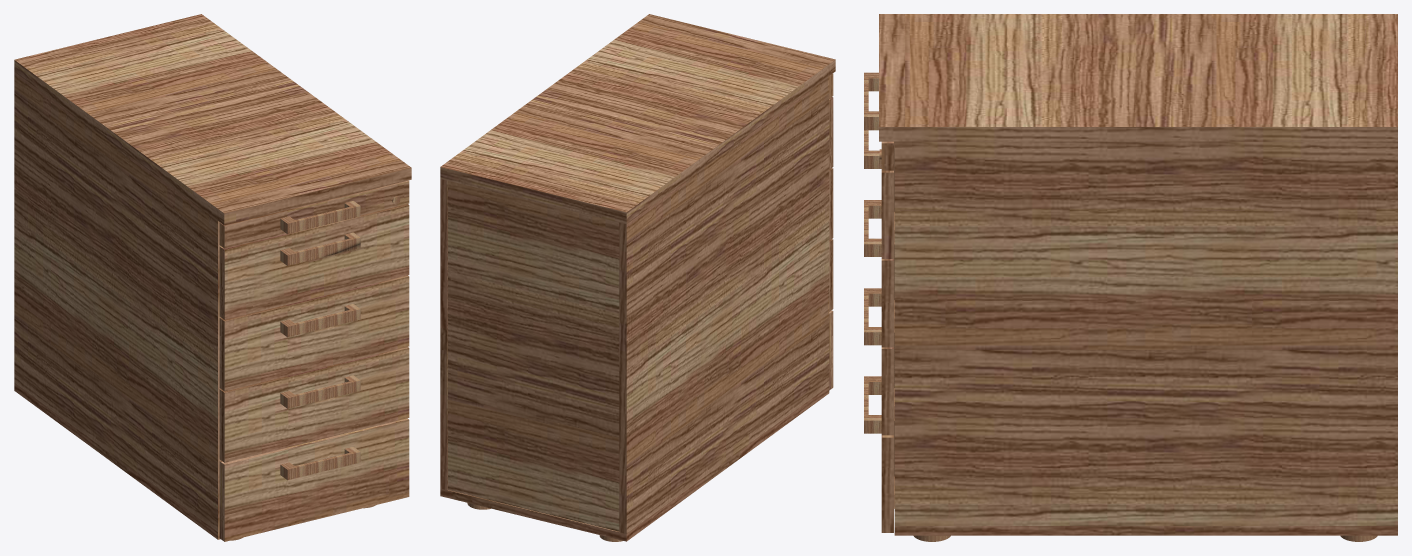
File: cabinet_exterior_13HE_14x80_finala.fbx
3 views of the same model, side by side, from view 1: azimuth 30°, elevation 25°; view 2: azimuth 150°, elevation 25°; view 3: azimuth 270°, elevation 25° (orthographic). The views are drawn at different scales.
Visible parts, largest first — view 1: drewno_mesh, front_mesh, metal_mesh; view 2: drewno_mesh, front_mesh; view 3: drewno_mesh, front_mesh, metal_mesh.
Part boxes in pixels (x1,y1,x2,y2): drewno_mesh: (14,14,411,539); front_mesh: (219,180,409,541); metal_mesh: (280,201,360,480); drewno_mesh: (440,14,835,541); front_mesh: (829,73,833,390); drewno_mesh: (879,14,1397,535); front_mesh: (881,141,893,532); metal_mesh: (864,72,881,433).
Bounding box in the file's own units: 41.2 × 72 × 82.3.
